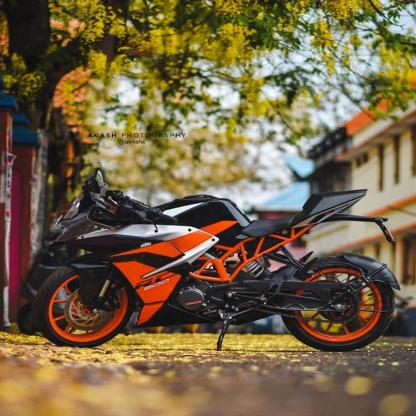bike: (34, 164, 399, 353)
